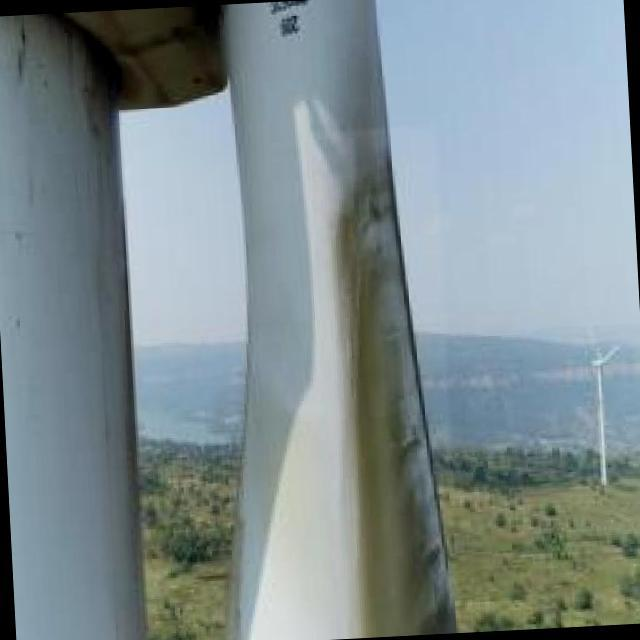Dirt: (334, 2, 469, 639)
